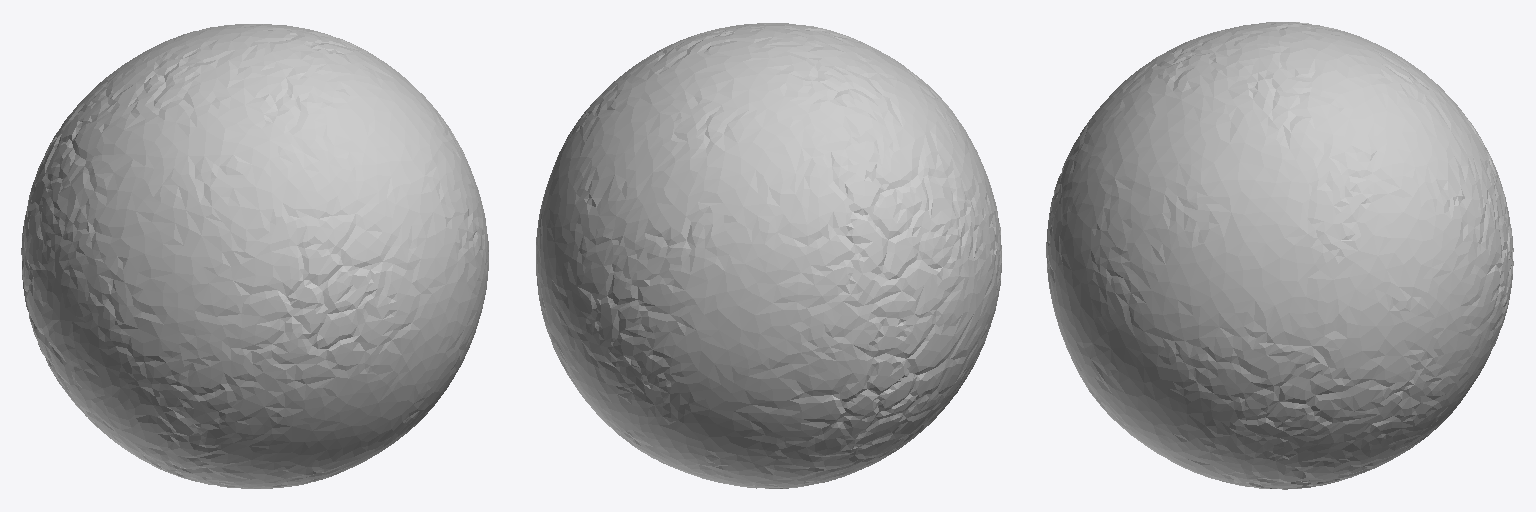
The model's file is Planet.OBJ.
The picture shows the model from 3 angles: view 1: azimuth 30°, elevation 25°; view 2: azimuth 150°, elevation 25°; view 3: azimuth 270°, elevation 25°; orthographic projection.
Parts seen in each view (by area): view 1: Group60880; view 2: Group60880; view 3: Group60880.
Part boxes in pixels (x1,y1,x2,y2): Group60880: (21,24,488,488); Group60880: (536,23,1001,488); Group60880: (1046,22,1513,489).
Bounding box in the file's own units: 2.02 × 2.01 × 2.02.